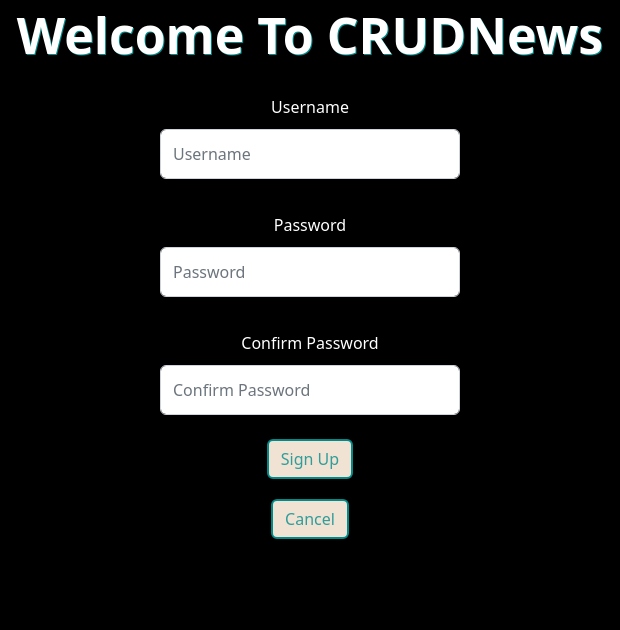
Scenario: SignUpPage › shows an error when passwords do not match
Type "user1" into the field labelled "Username" at {"x": 310, "y": 154}, box [160,129,460,179]
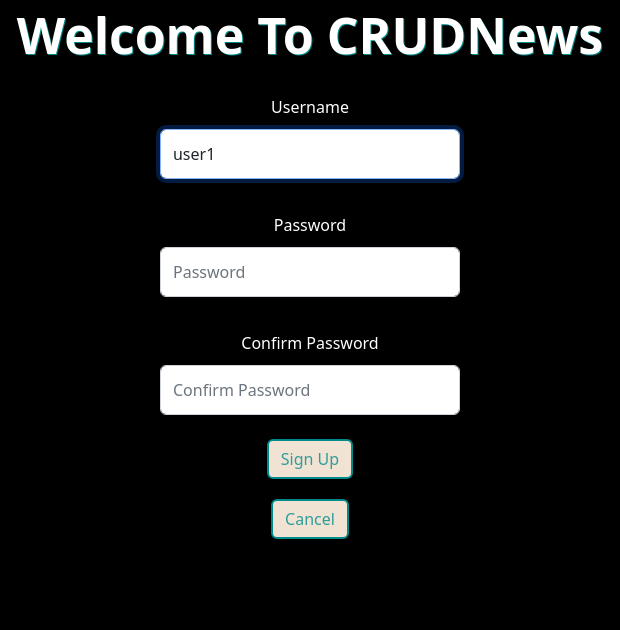
Type "Password1!" into the password field labelled "Password" at {"x": 310, "y": 272}, box [160,247,460,297]
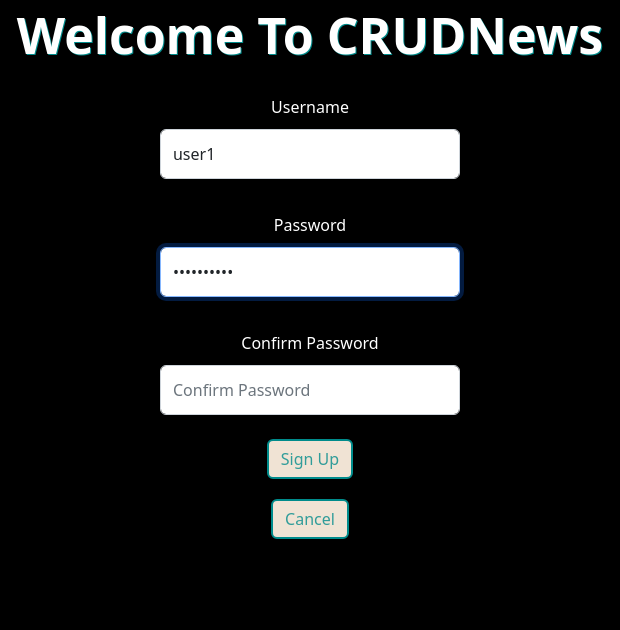
Type "Password2!" into the password field labelled "Confirm Password" at {"x": 310, "y": 390}, box [160,365,460,415]
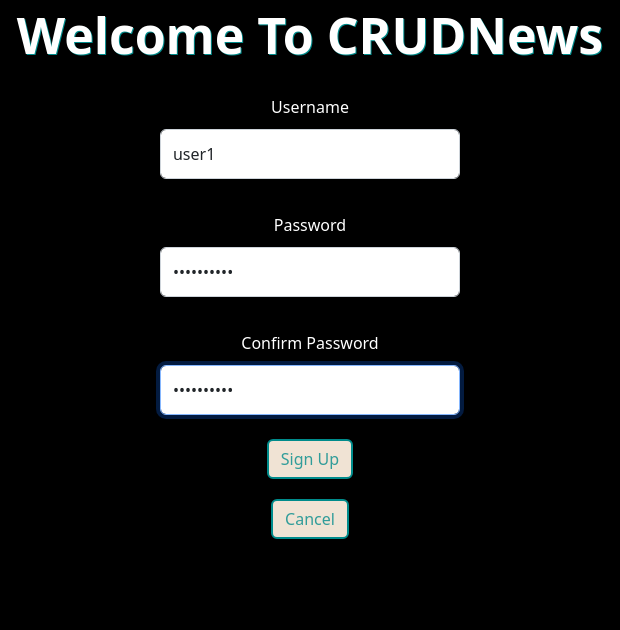
Click the button "Sign Up" at {"x": 310, "y": 459}, box [267,439,353,479]
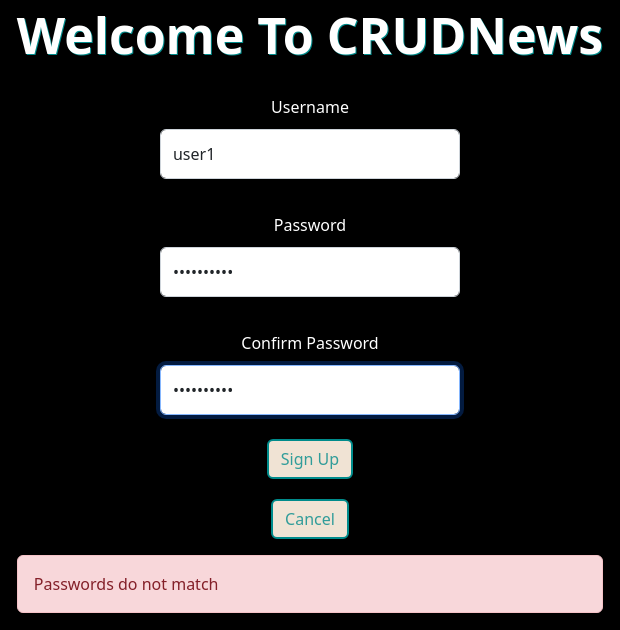
Expected: the text "Passwords do not match" is shown, [17,555,603,613]
